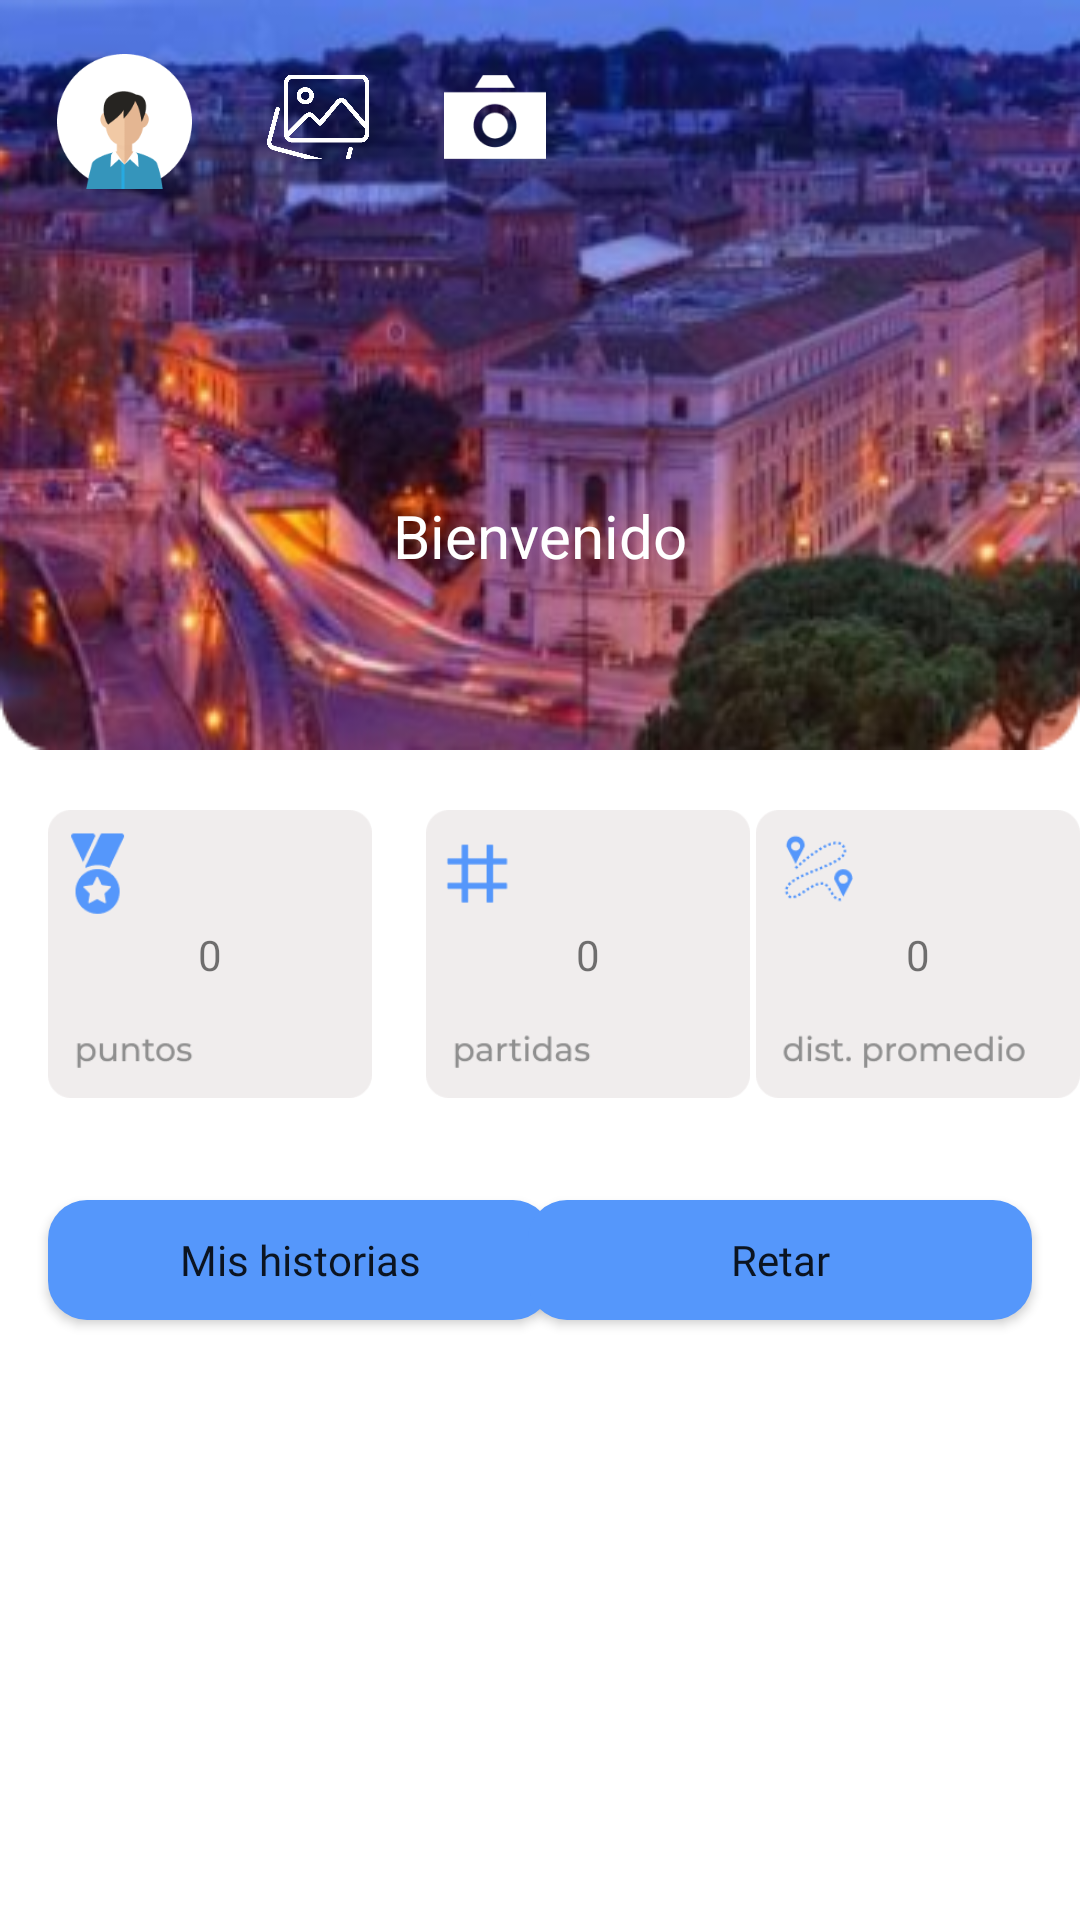

Named icons in this screenshot (1080*1920) and their centers, (x=x, y=y):
camera: (x=495, y=117)
gallery: (x=318, y=117)
